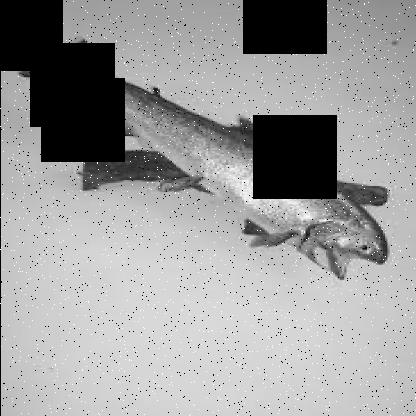fish: (24, 34, 388, 279)
